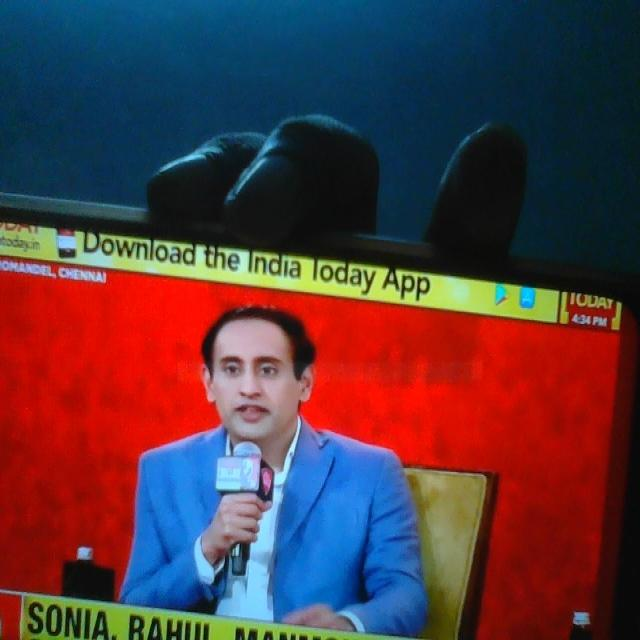fake: (203, 269, 309, 471)
